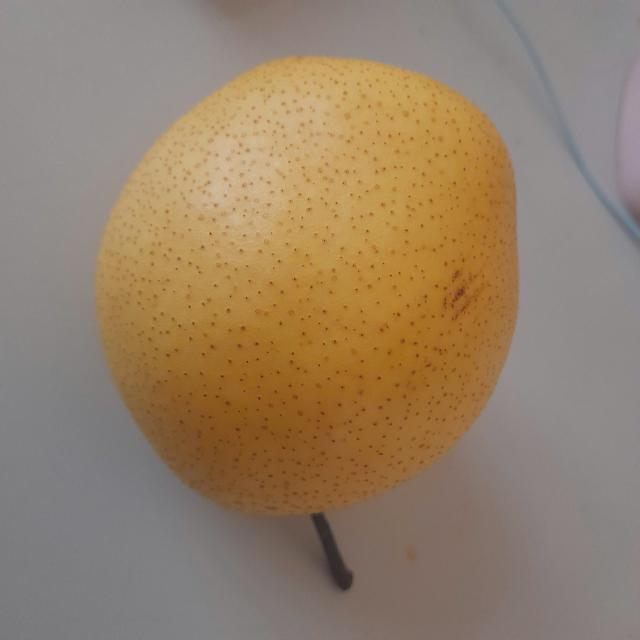Le: (81, 50, 527, 596)
